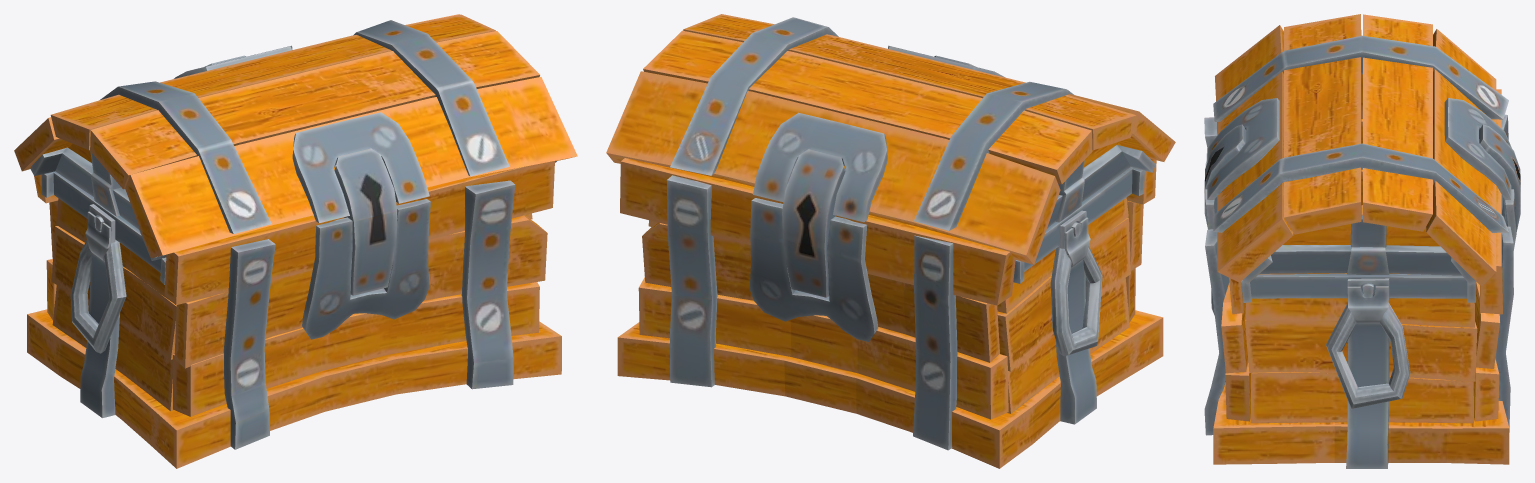
The model's file is chest.glb.
The picture shows the model from 3 angles, left to right: view 1: azimuth 30°, elevation 25°; view 2: azimuth 150°, elevation 25°; view 3: azimuth 270°, elevation 25°; orthographic projection. The views are drawn at different scales.
Parts seen in each view (by area): view 1: defaultMaterial; view 2: defaultMaterial; view 3: defaultMaterial.
Boxes of the visible parts, x1=… form: defaultMaterial: x1=14, y1=14, x2=577, y2=468; defaultMaterial: x1=606, y1=14, x2=1175, y2=468; defaultMaterial: x1=1204, y1=14, x2=1520, y2=468.
Size of the model in its own units: 0.8438 by 0.5753 by 0.5851.
1 material, 1 textured.
